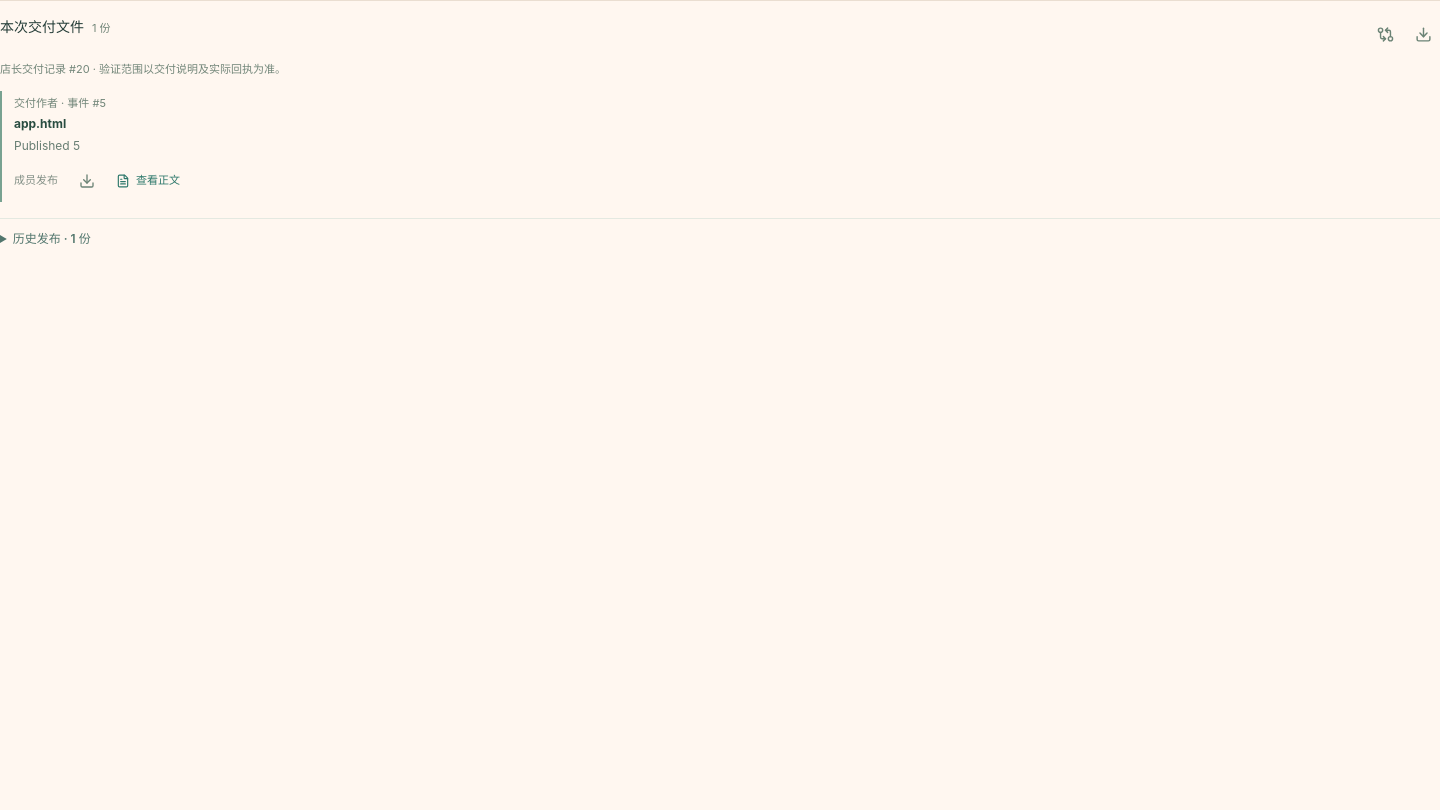
preserves raw text and displays line-ending notes: missing final newline
What coordinates should you click on to do the following:
click the button named "对照已发布版本"
I would click on:
 (1385, 34)
Its box is x1=1368 y1=17 x2=1402 y2=51.
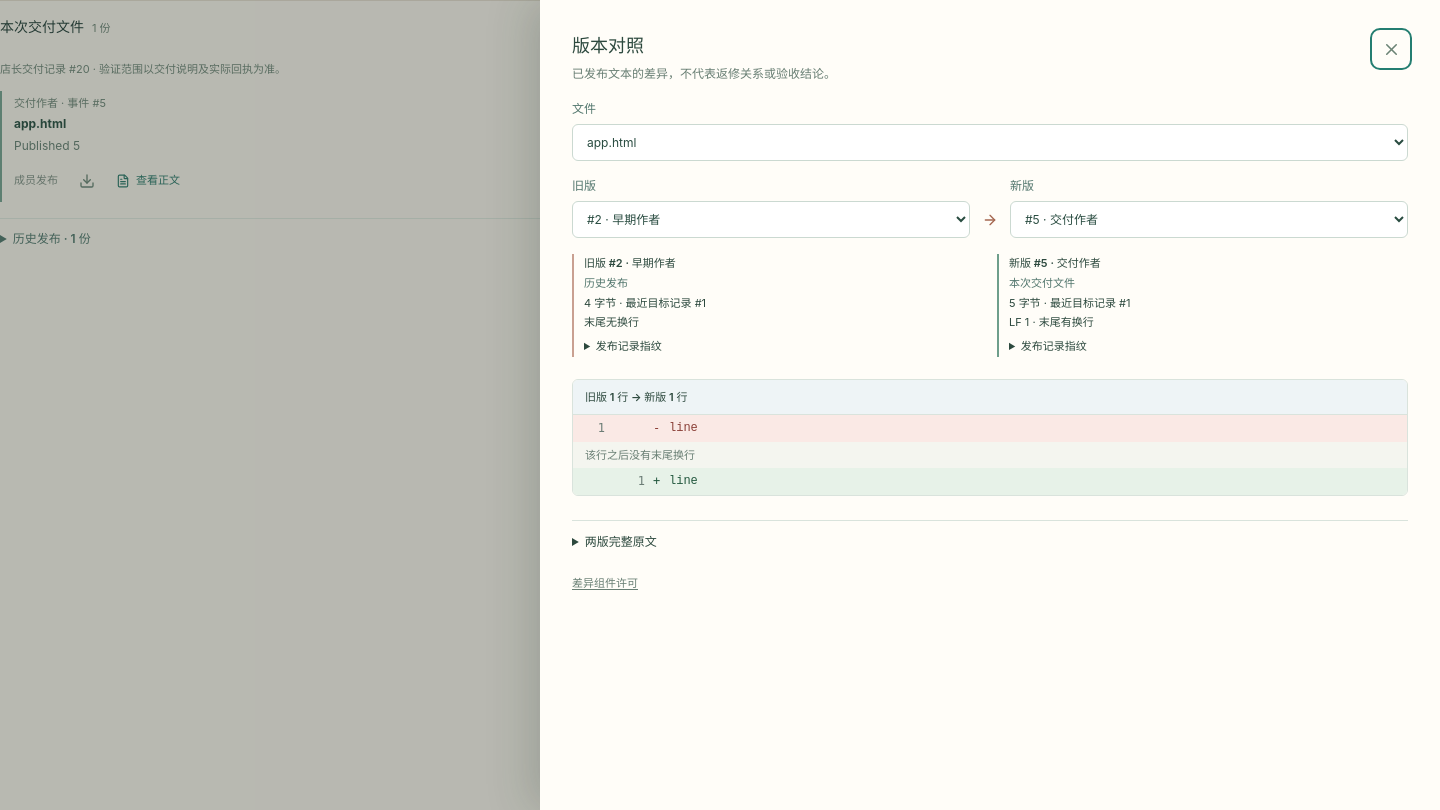
Now the text "末尾无换行" is shown, box x1=584 y1=315 x2=639 y2=329
Now the text "LF 1 · 末尾有换行" is shown, box x1=1009 y1=315 x2=1094 y2=329
Now the text named "新增" is shown, box x1=653 y1=474 x2=660 y2=488
What coordinates should you click on to do the following:
click the heading "两版完整原文"
I would click on:
 (621, 541)
Its box is x1=585 y1=534 x2=657 y2=549.
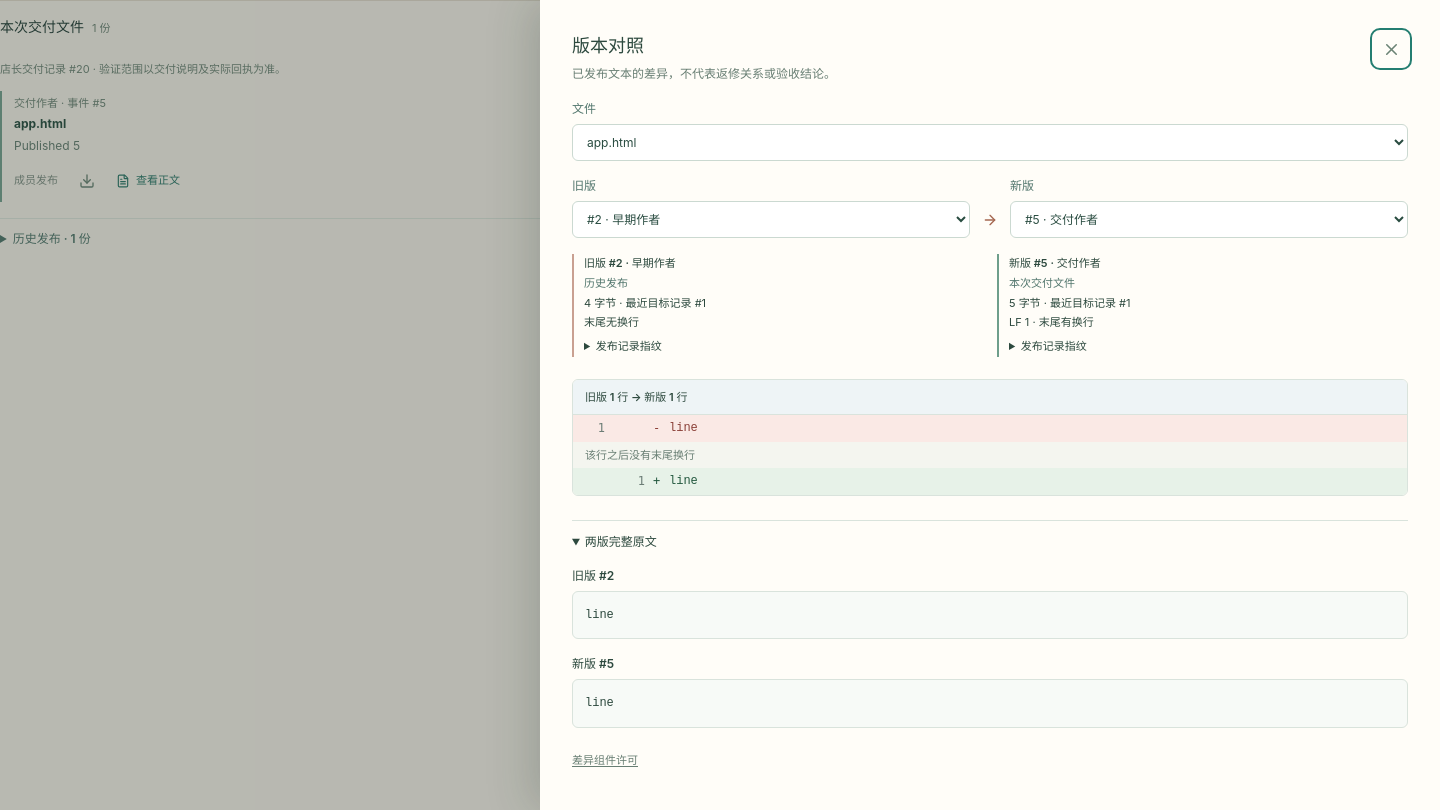
Now the element named "旧版完整原文" reads "line", box x1=585 y1=608 x2=614 y2=622
Now the element named "新版完整原文" reads "line", box x1=585 y1=696 x2=614 y2=710
